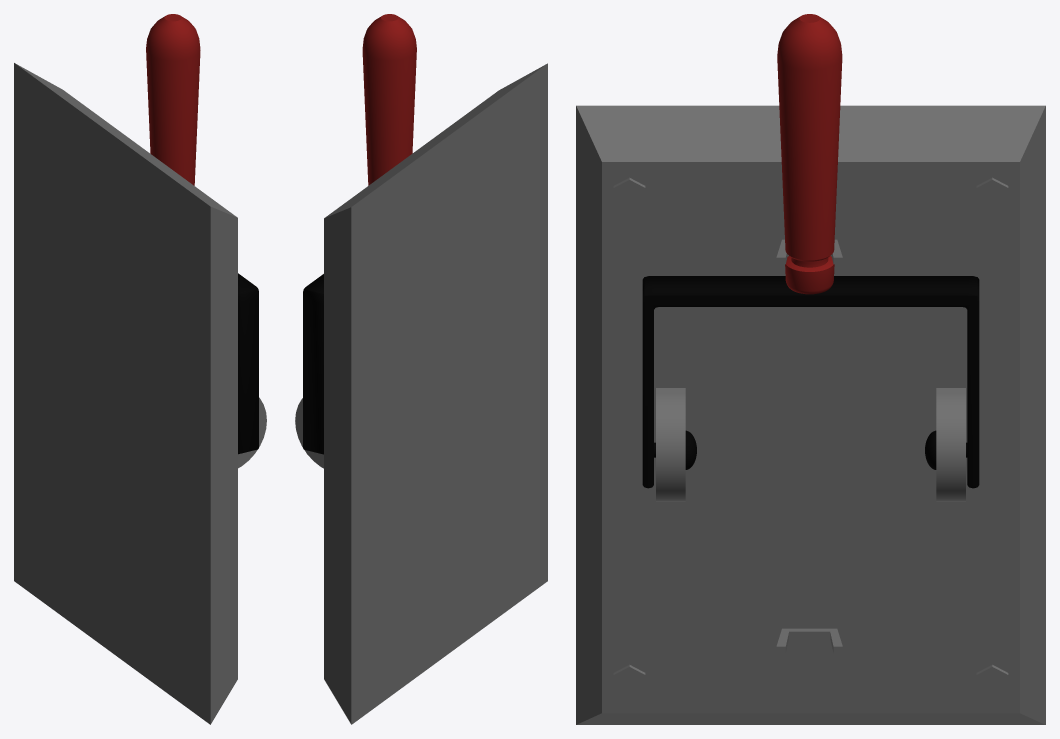
Rendered from Рычаг.fbx.
The picture shows the model from 3 angles, left to right: view 1: azimuth 30°, elevation 25°; view 2: azimuth 150°, elevation 25°; view 3: azimuth 270°, elevation 25°; orthographic projection. The views are drawn at different scales.
Parts seen in each view (by area): view 1: Cube, Cylinder.003, Cube.001, Cylinder.001; view 2: Cube, Cylinder.003, Cube.001, Cylinder.001; view 3: Cube, Cylinder.003, Cube.001, Cylinder.001, Cylinder, Cube.002, Sphere.
Boxes of the visible parts, x1,y1,x2,y2 form: Cube: (14,63,237,724); Cylinder.003: (146,14,200,185); Cube.001: (238,273,258,454); Cylinder.001: (238,397,266,468); Cube: (324,63,547,724); Cylinder.003: (362,14,416,185); Cube.001: (303,274,323,454); Cylinder.001: (295,398,323,468); Cube: (576,105,1045,724); Cylinder.003: (777,14,842,294); Cube.001: (642,276,979,488); Cylinder.001: (656,388,965,501); Cylinder: (613,177,1008,699); Cube.002: (776,239,842,653); Sphere: (685,430,936,469).
Size of the model in its own units: 11.75 by 77.57 by 44.51.
